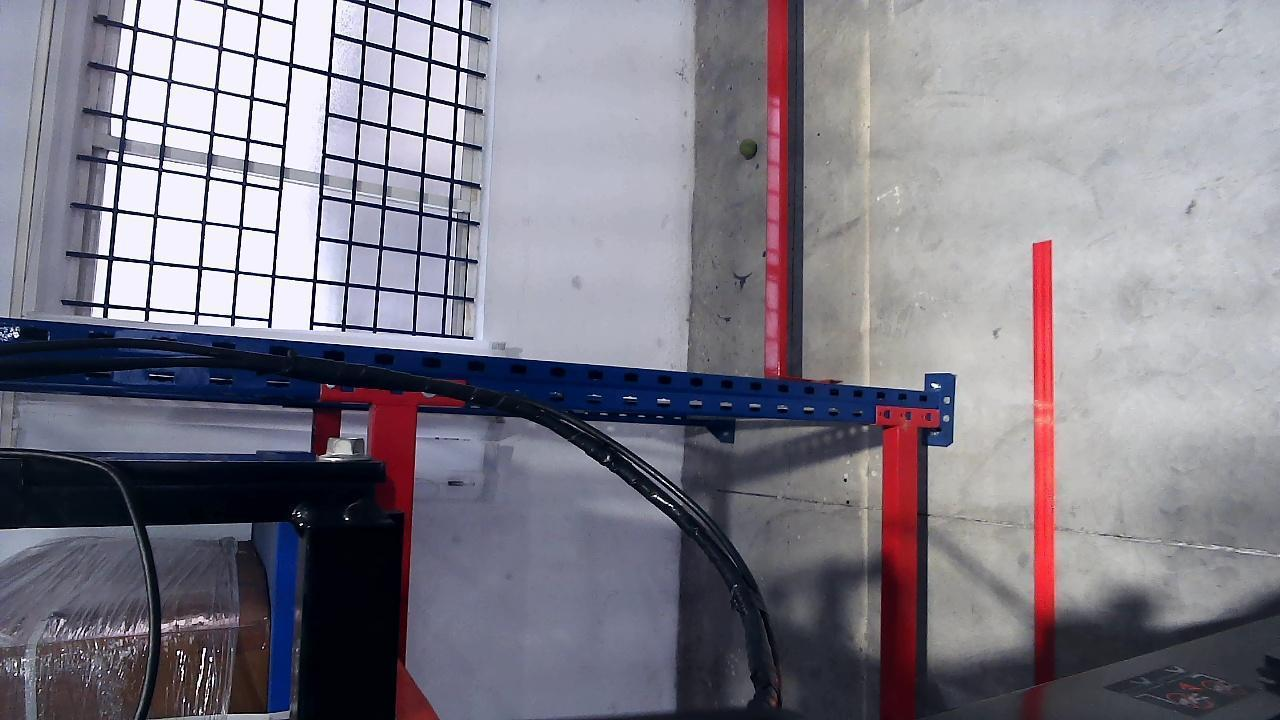red_line: (1030, 238, 1058, 689)
